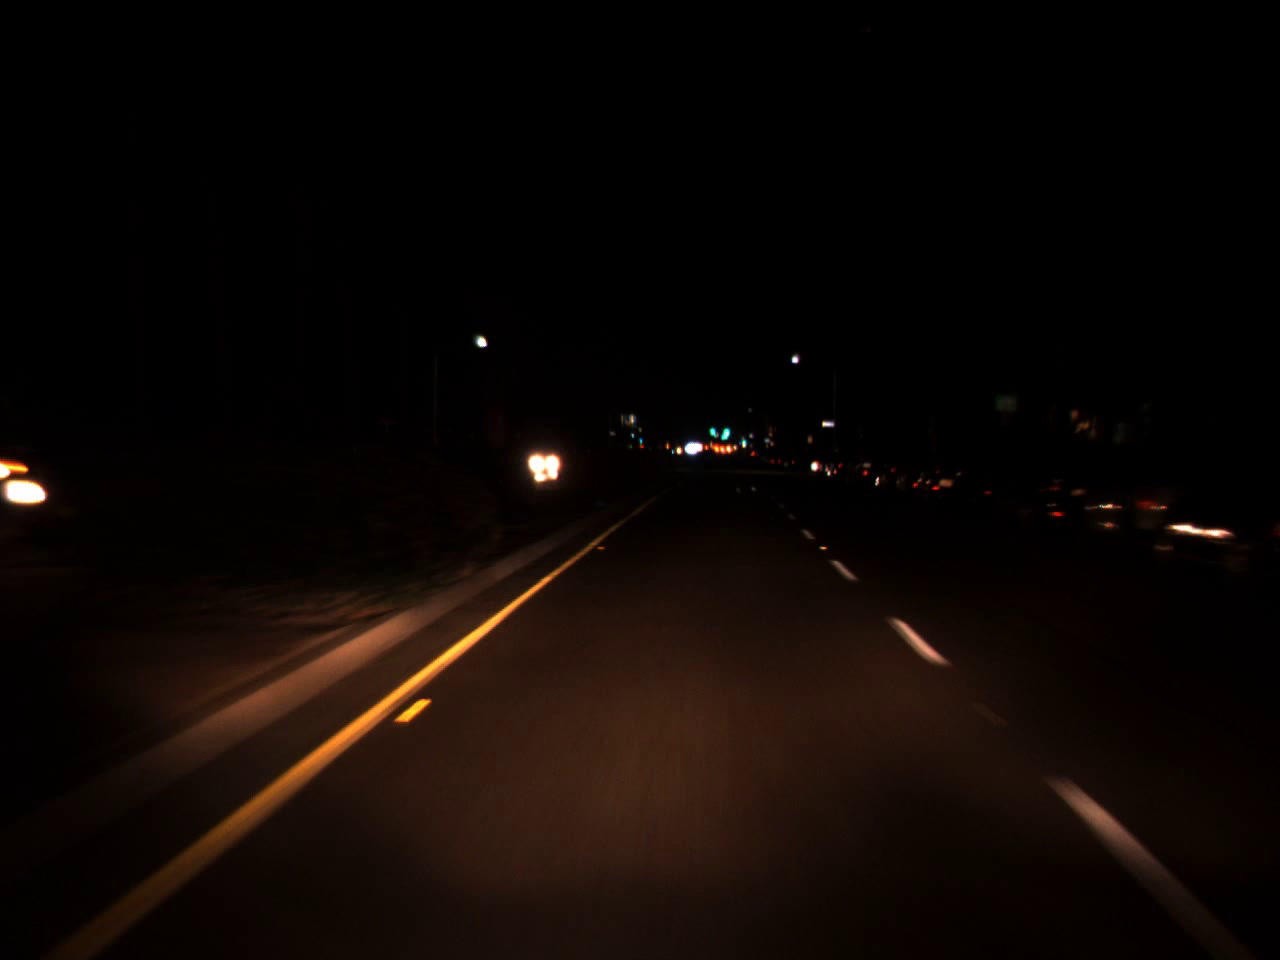go: (718, 414, 730, 444), (738, 431, 747, 446), (709, 419, 716, 438)
